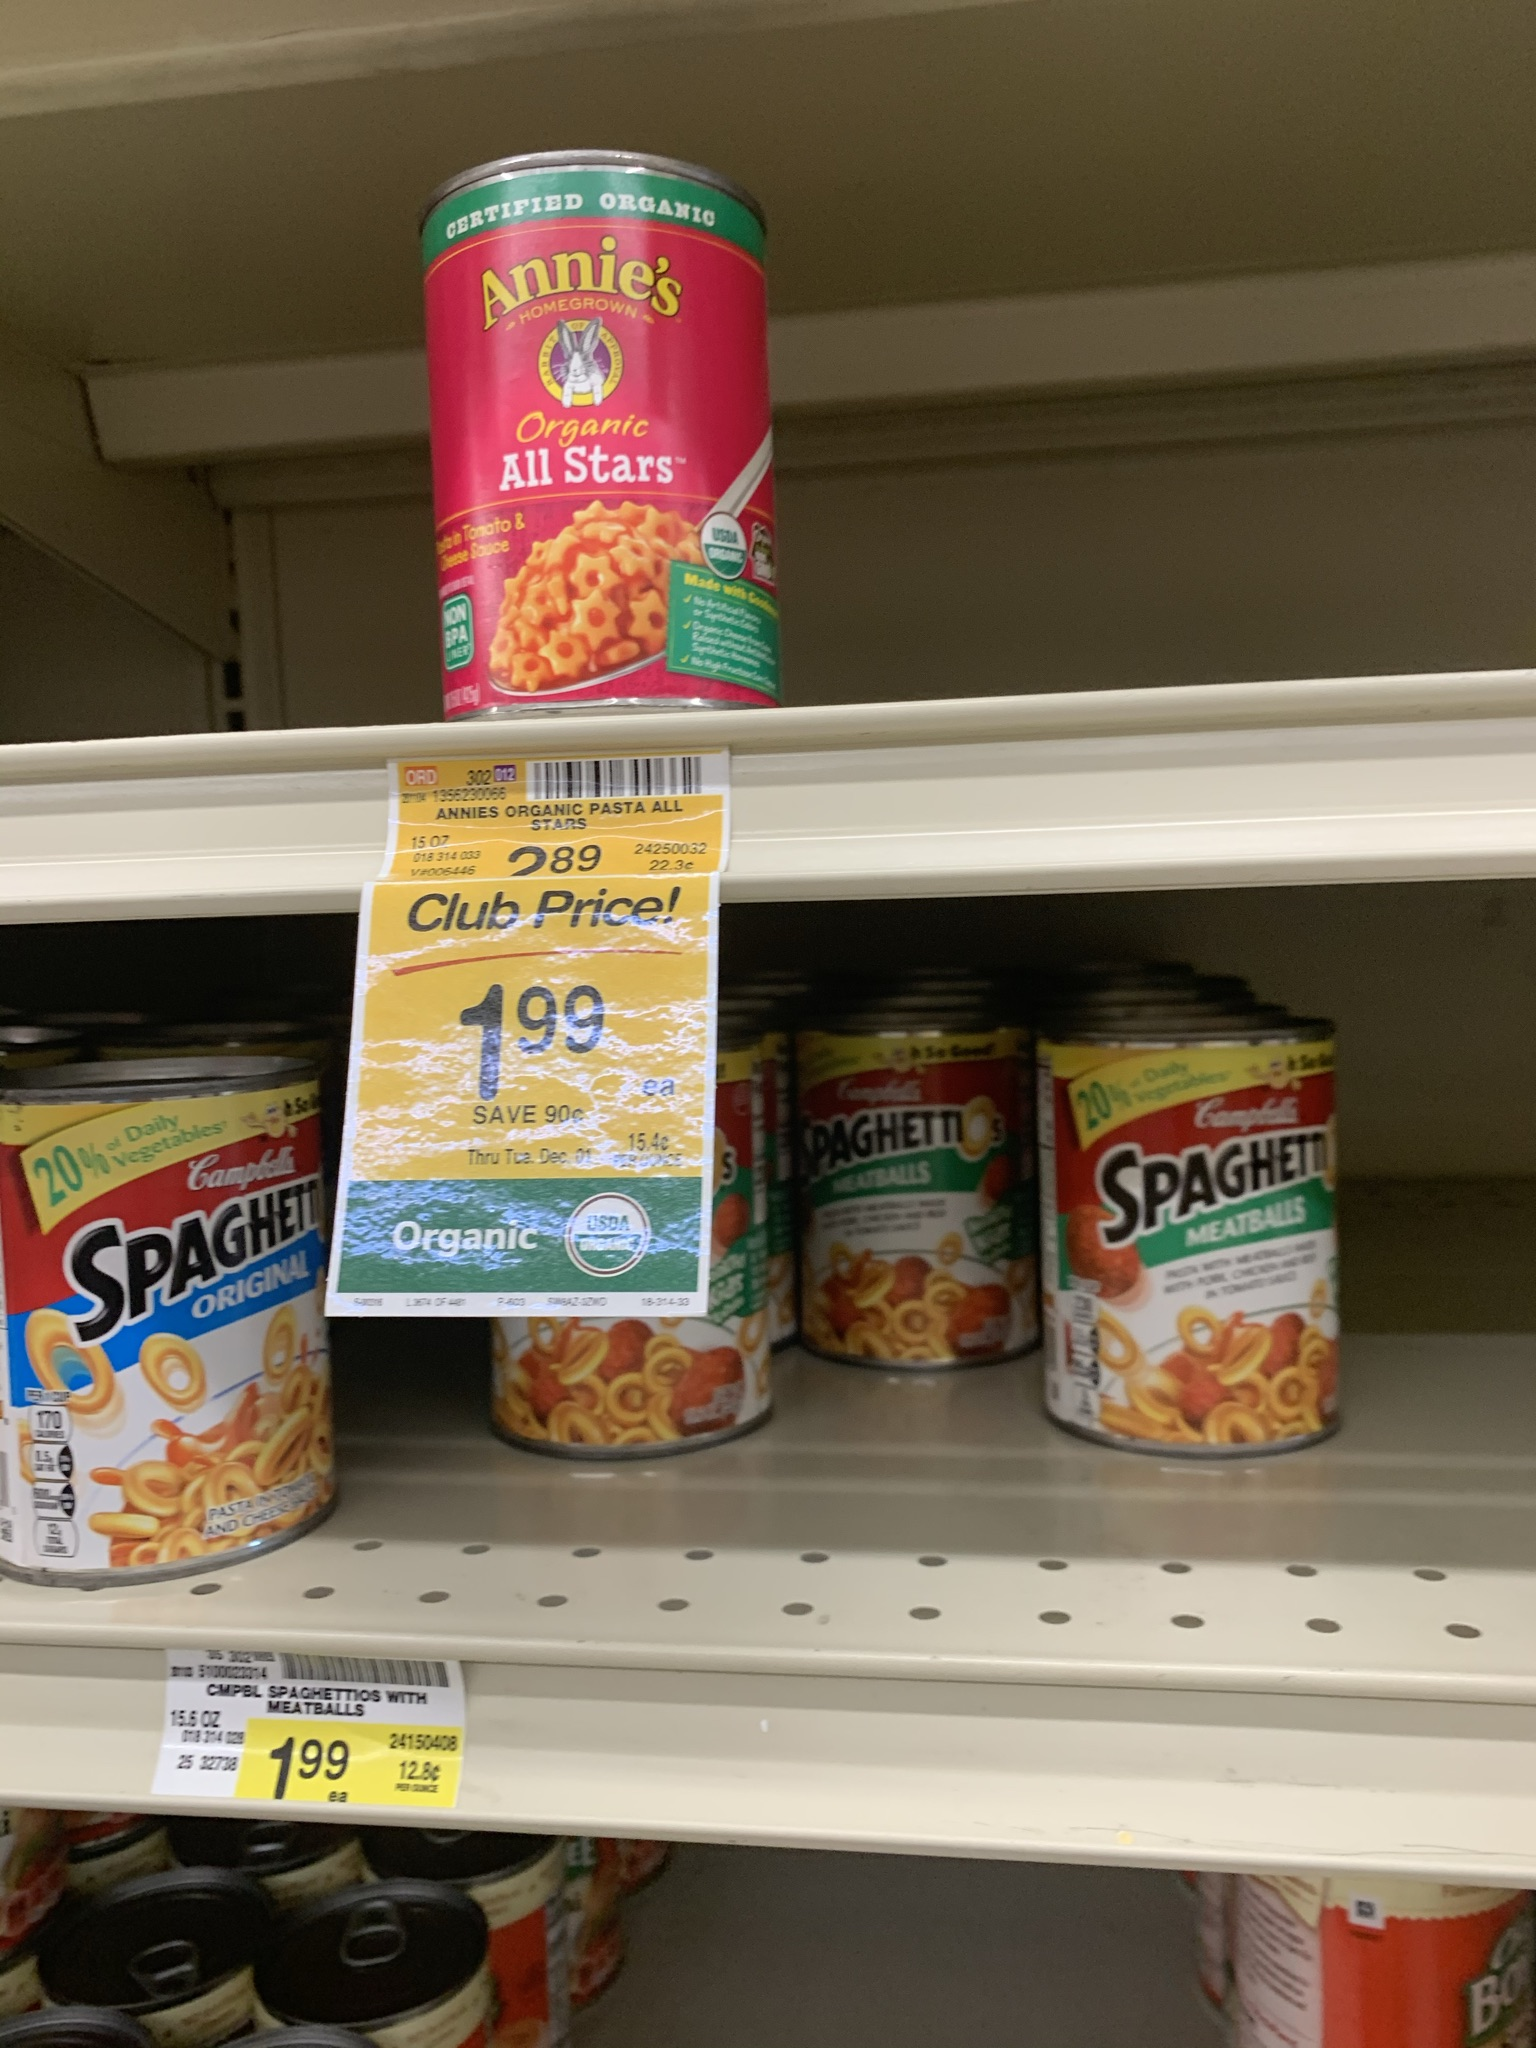can: (449, 198, 771, 710), (3, 1087, 326, 1555), (1066, 1053, 1334, 1442), (812, 1043, 1016, 1356)
